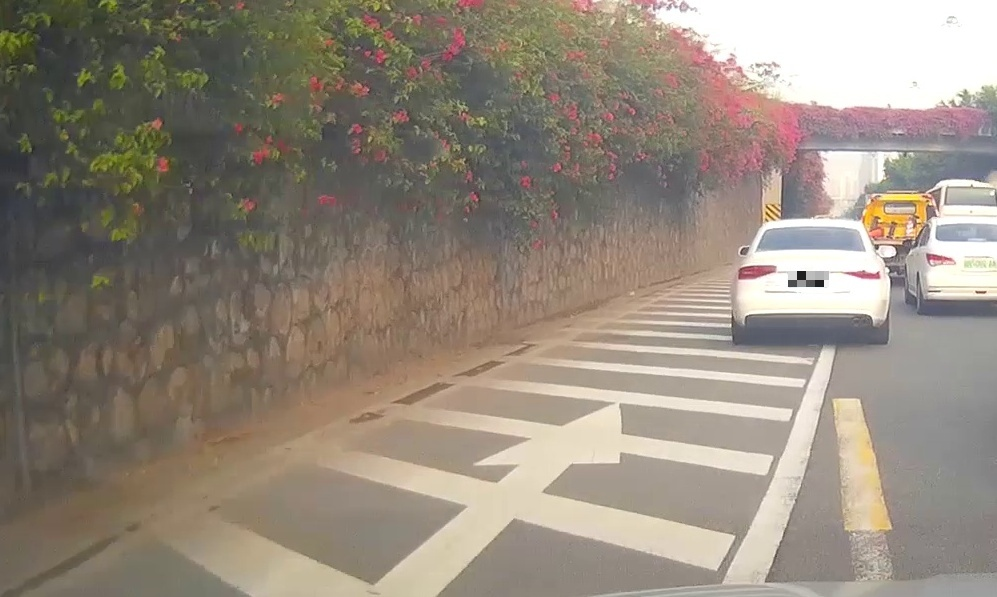L_light: (737, 265, 776, 280)
R_light: (843, 266, 882, 280)
T_light: (800, 226, 824, 231)
day-right: (730, 219, 890, 344)
plate_1: (788, 271, 829, 287)
